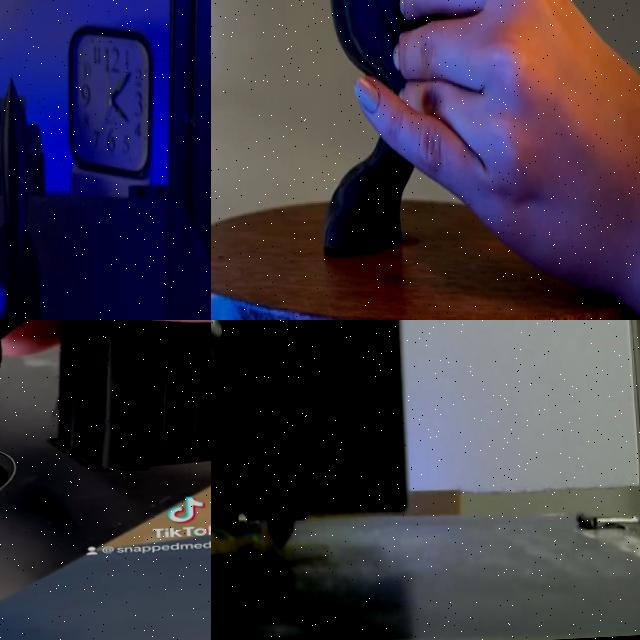spaghetti: (211, 519, 293, 561)
